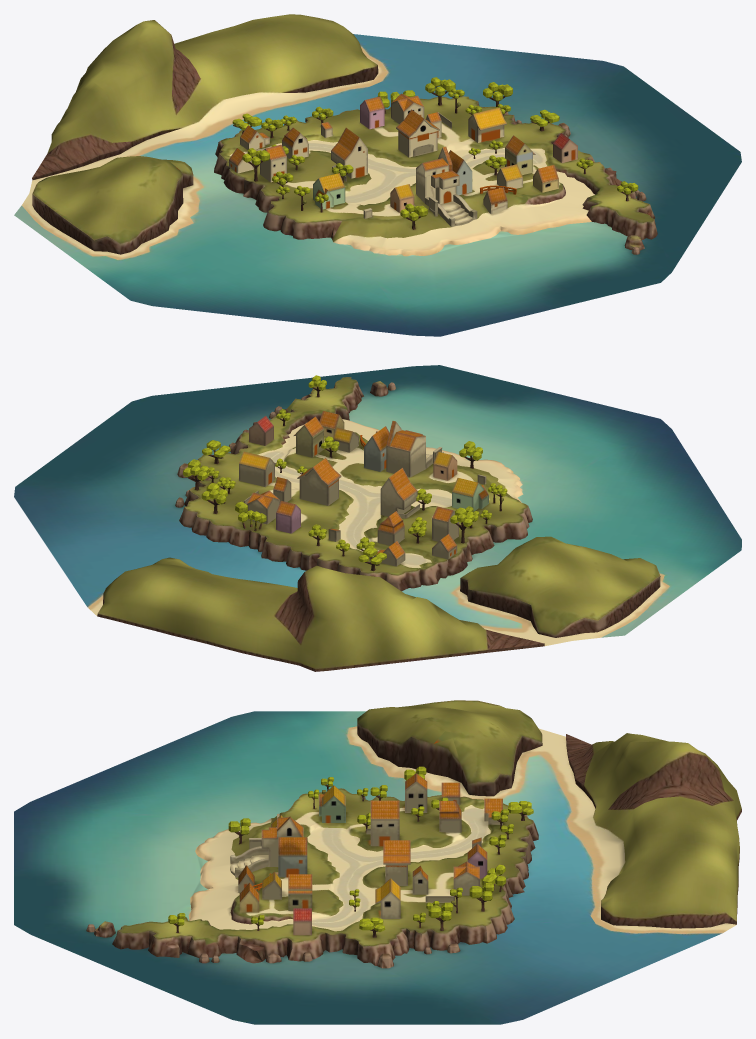
The model's file is diorama isla.glb.
3 views of the same model, one above another, from view 1: azimuth 30°, elevation 25°; view 2: azimuth 150°, elevation 25°; view 3: azimuth 270°, elevation 25° (orthographic). The views are drawn at different scales.
Parts seen in each view (by area): view 1: mesh; view 2: mesh; view 3: mesh.
Boxes of the visible parts, x1,y1,x2,y2 form: mesh: [14, 14, 741, 336]; mesh: [14, 365, 741, 671]; mesh: [14, 700, 741, 1024].
Size of what is drawn, in the model's own units: 142 by 16.86 by 139.
1 material, 1 textured.
